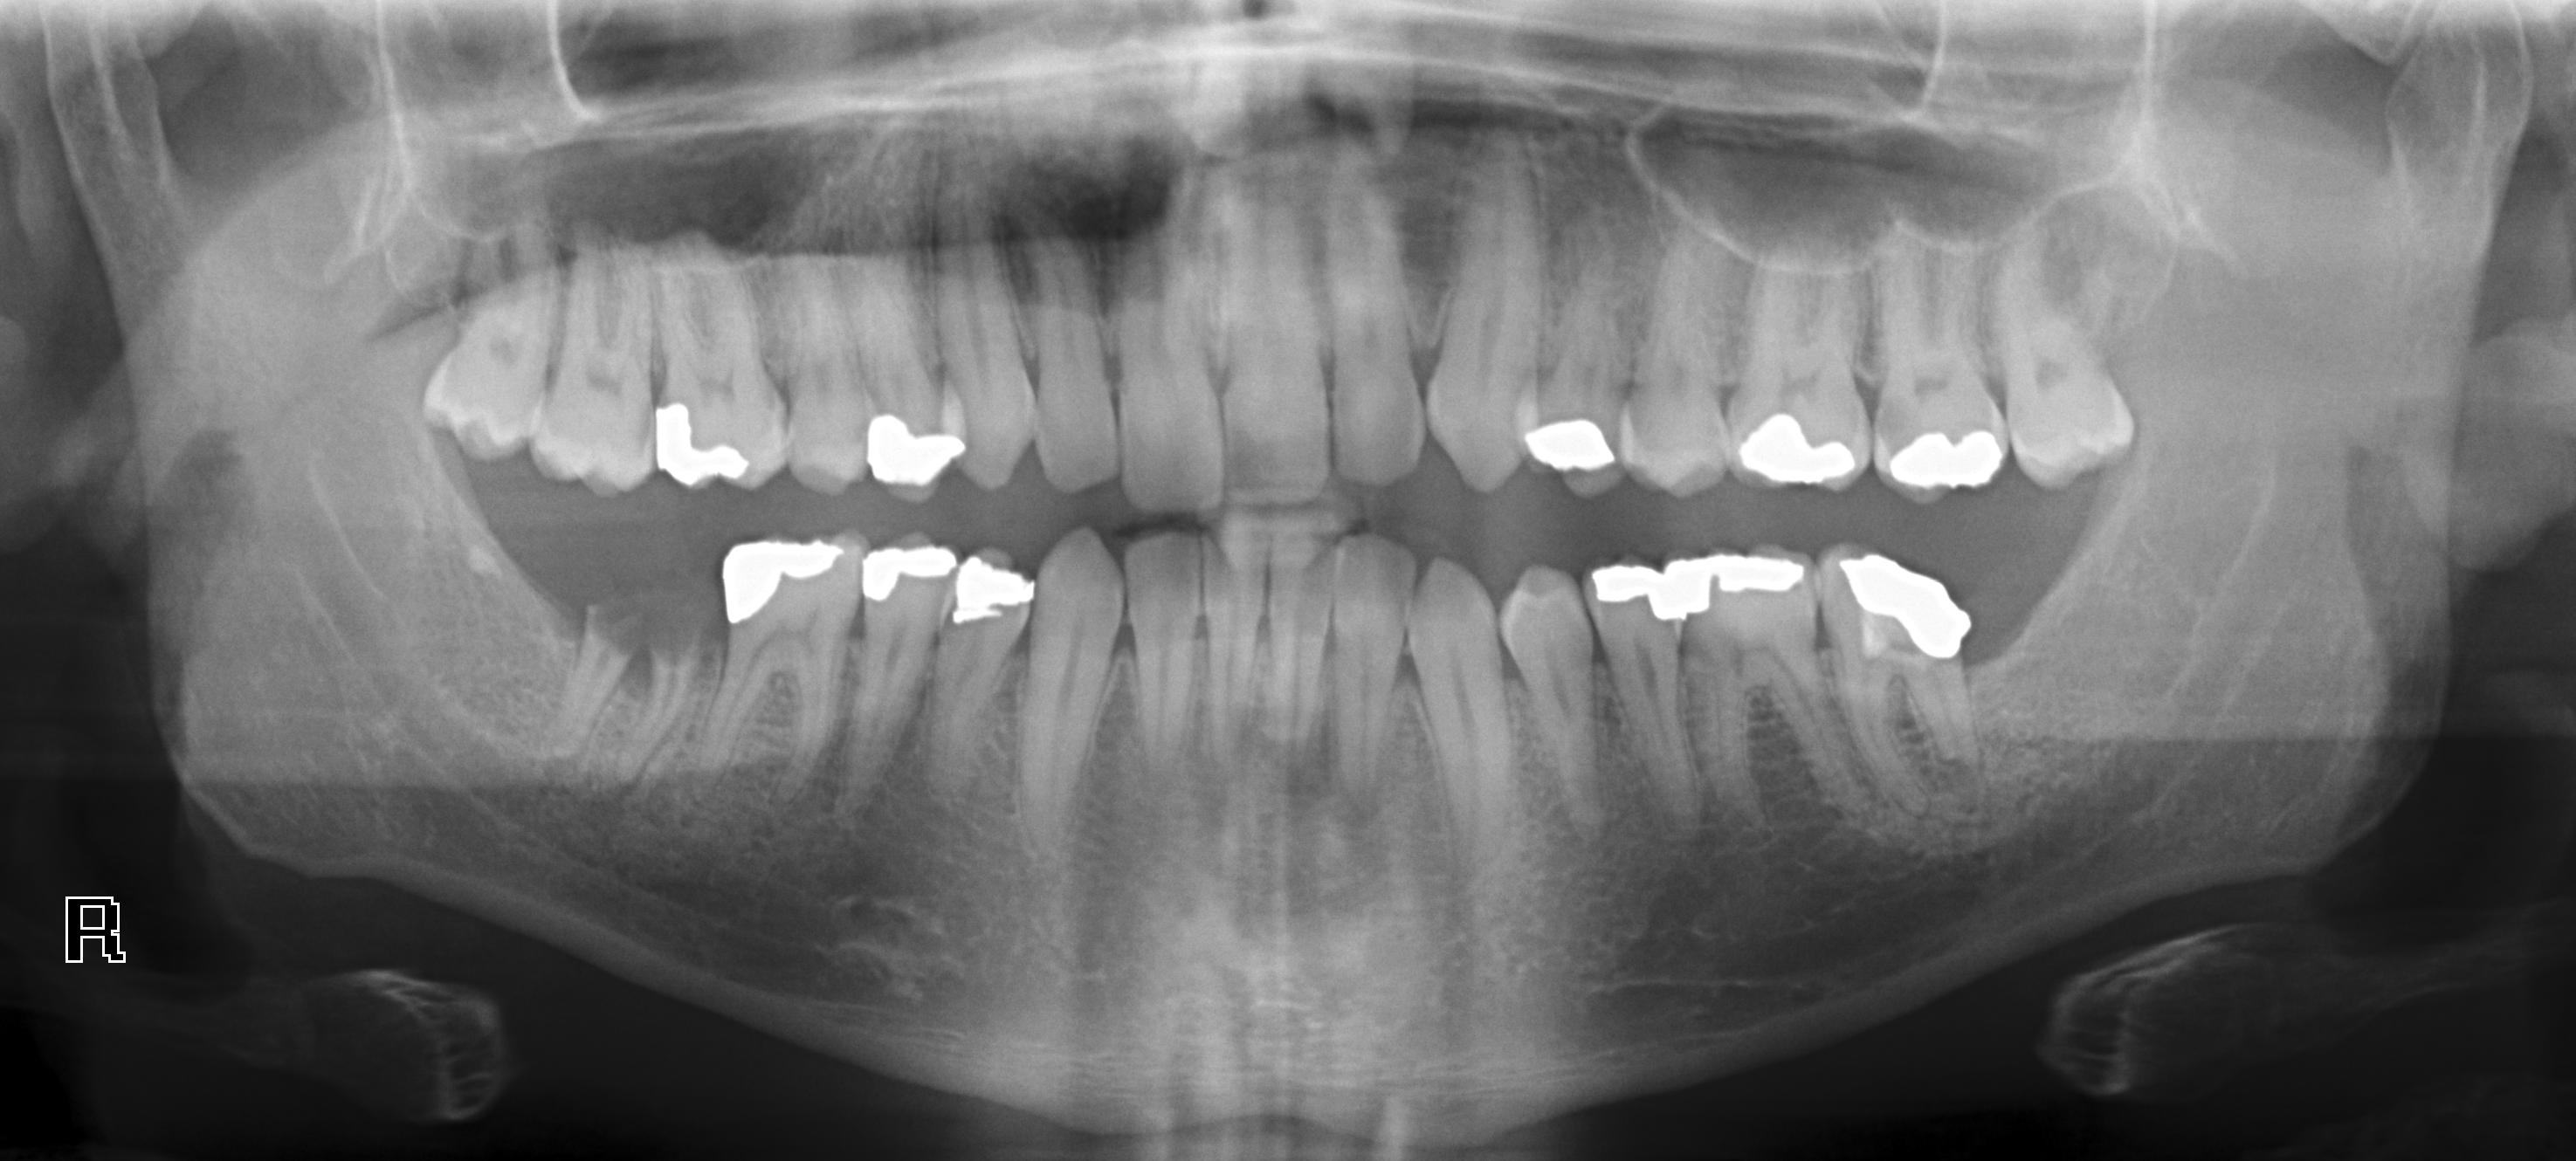Çürük: (1835, 555, 1980, 655), (715, 540, 858, 631), (651, 392, 757, 488), (1737, 406, 1856, 489), (1672, 550, 1804, 624), (1888, 432, 2009, 499), (1521, 409, 1621, 483), (861, 415, 941, 483), (951, 562, 1050, 614), (1587, 562, 1671, 621), (864, 547, 961, 596), (940, 368, 966, 445)
Çürük Bölgesi: (588, 603, 705, 660), (1884, 622, 1934, 681), (932, 613, 1007, 639), (961, 388, 984, 460)
